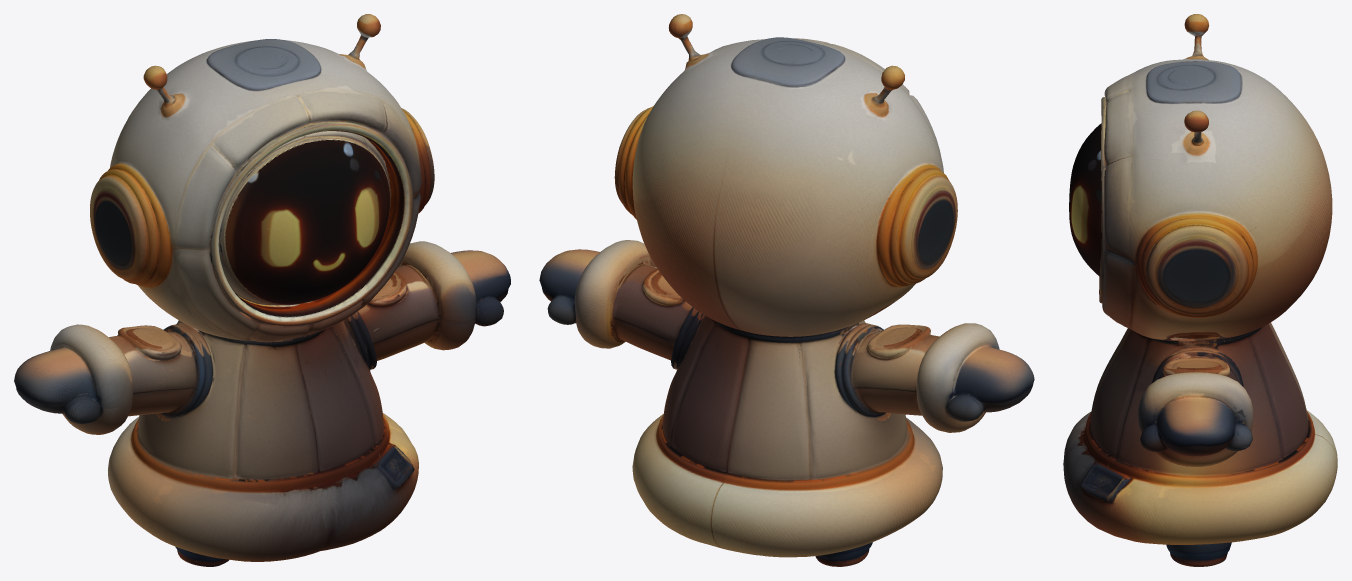
The model's file is Robot.fbx.
3 views of the same model, side by side, from view 1: azimuth 30°, elevation 25°; view 2: azimuth 150°, elevation 25°; view 3: azimuth 270°, elevation 25° (orthographic). The views are drawn at different scales.
Visible parts, largest first — view 1: Retopo_model.003; view 2: Retopo_model.003; view 3: Retopo_model.003.
Part boxes in pixels (x1,y1,x2,y2): Retopo_model.003: (14,14,510,566); Retopo_model.003: (539,14,1034,566); Retopo_model.003: (1063,14,1337,566).
Size of the model in its own units: 178 by 177 by 93.63.
1 material, 1 textured.
